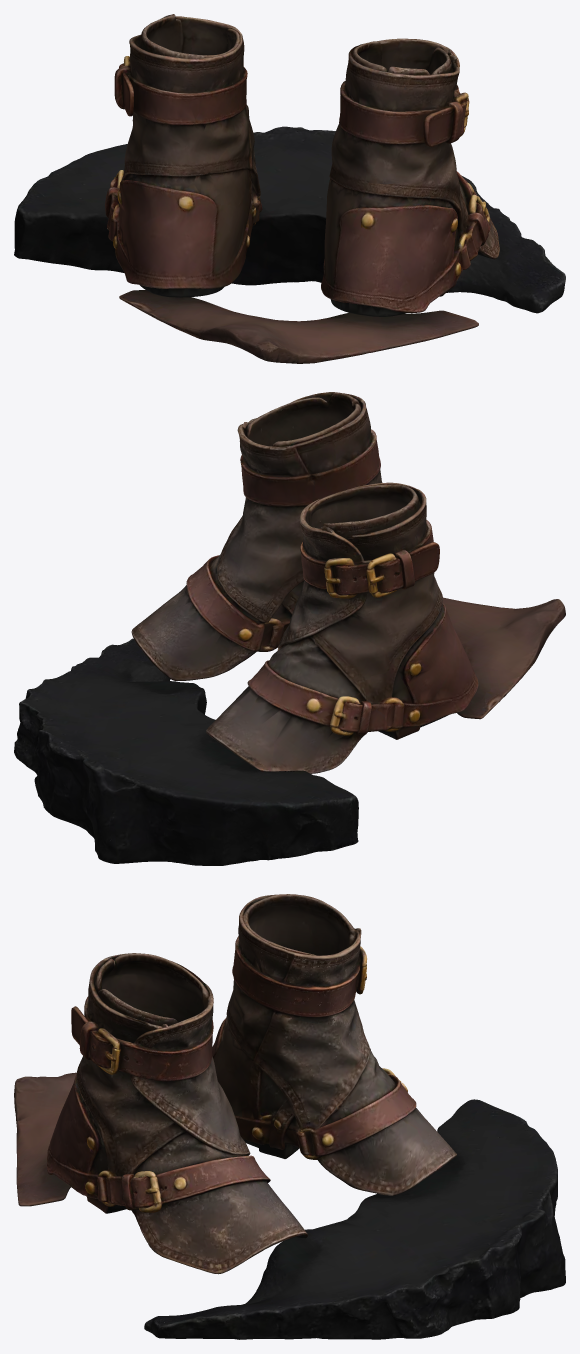
The model's file is drift-boots.glb.
3 renders of one model, top to bottom at view 1: azimuth 30°, elevation 25°; view 2: azimuth 150°, elevation 25°; view 3: azimuth 270°, elevation 25°, orthographic. The views are drawn at different scales.
Visible parts, largest first — view 1: tripo_node_df7b06d4-9030-434f-aa9d-3ffadd1d7c0c; view 2: tripo_node_df7b06d4-9030-434f-aa9d-3ffadd1d7c0c; view 3: tripo_node_df7b06d4-9030-434f-aa9d-3ffadd1d7c0c.
Boxes of the visible parts, x1,y1,x2,y2 form: tripo_node_df7b06d4-9030-434f-aa9d-3ffadd1d7c0c: [14, 14, 565, 363]; tripo_node_df7b06d4-9030-434f-aa9d-3ffadd1d7c0c: [14, 392, 565, 865]; tripo_node_df7b06d4-9030-434f-aa9d-3ffadd1d7c0c: [14, 894, 565, 1339].
Size of the model in its own units: 0.8312 by 0.6212 by 0.9997.
1 material, 1 textured.
